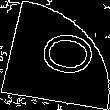O_W: (20, 29, 90, 81)
